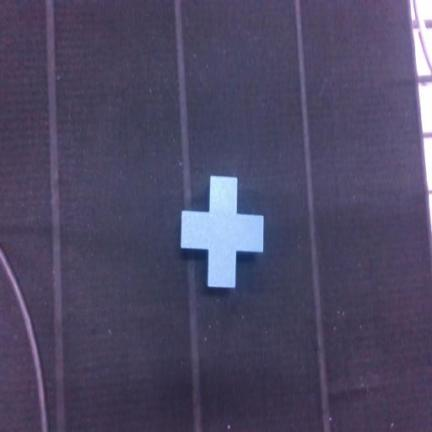cross: (181, 177, 263, 287)
